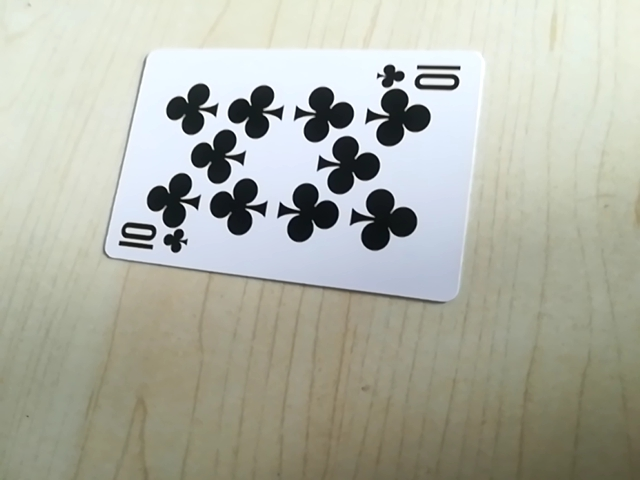mh 10: (375, 55, 467, 93), (112, 223, 192, 259)
